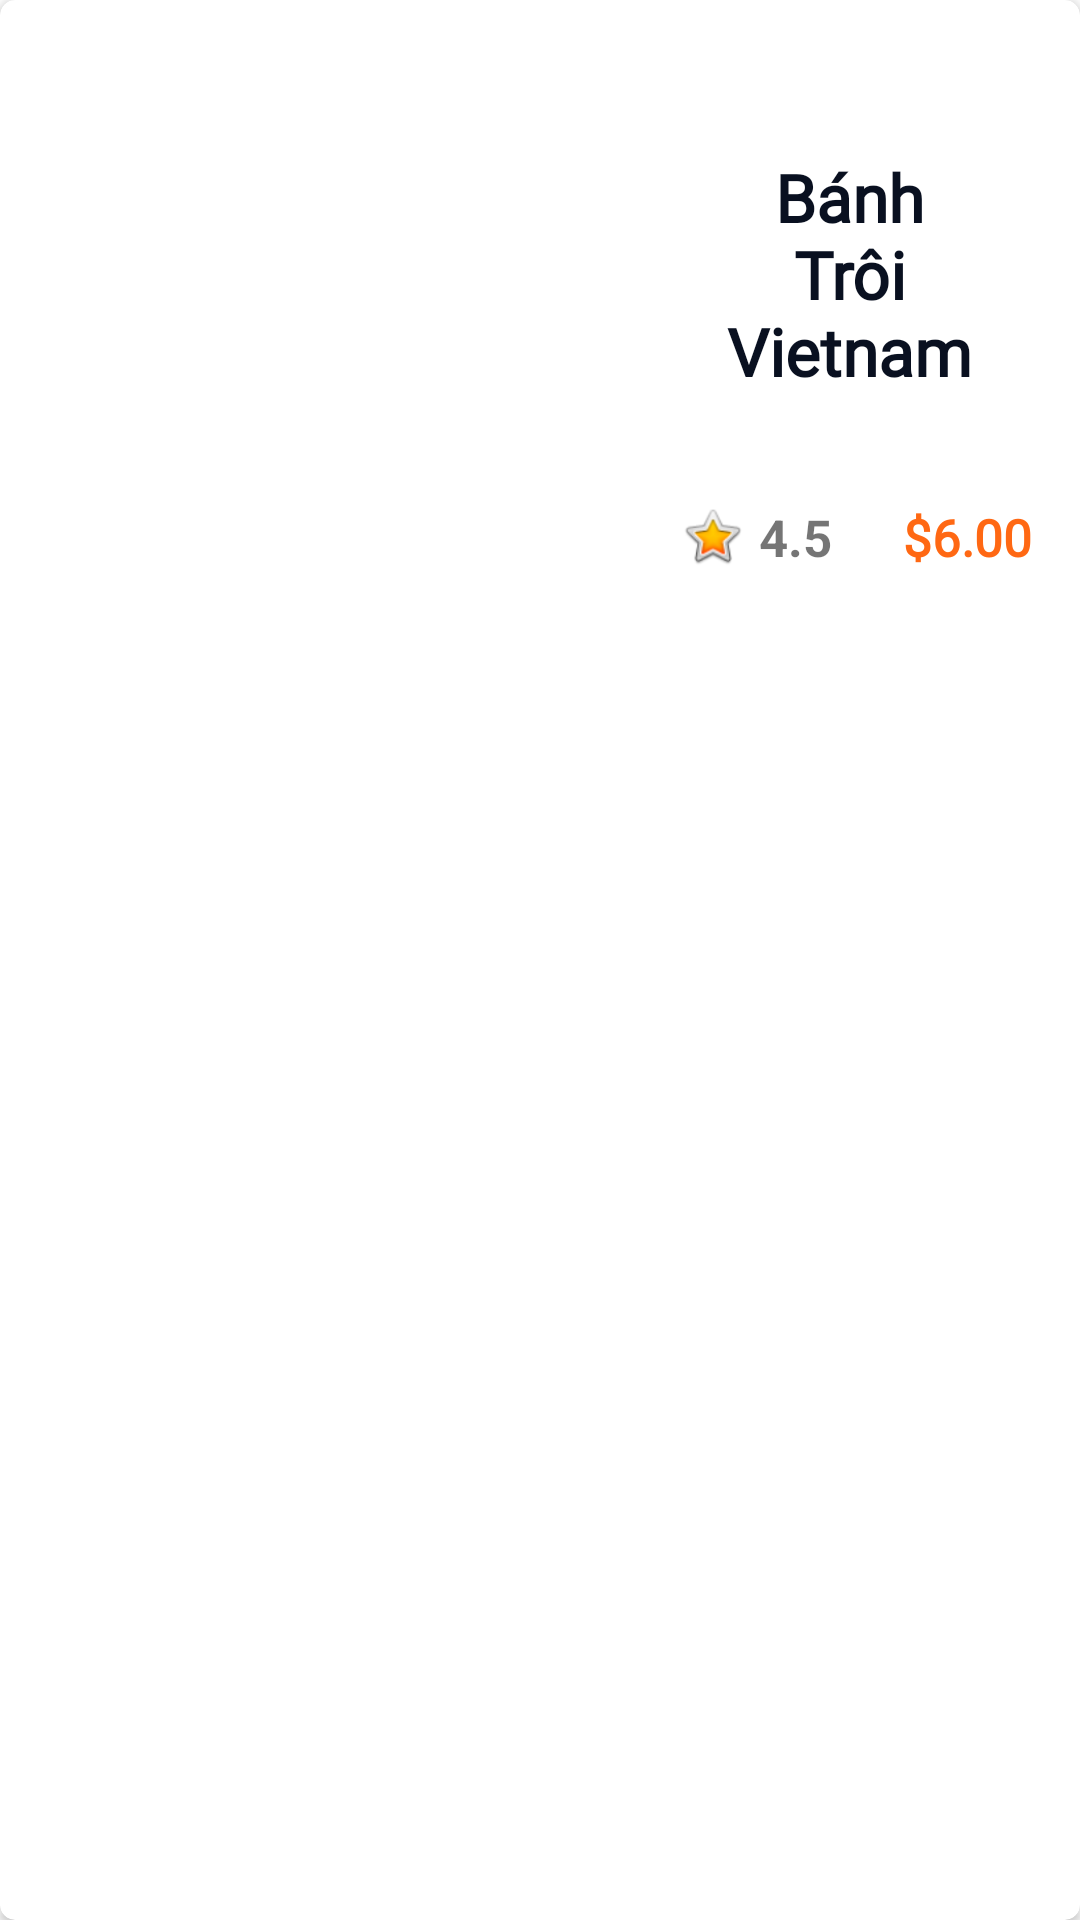

Screen size 1080 × 1920. Icon name, then its center in pixels as [x,y]:
star on: [713,536]
